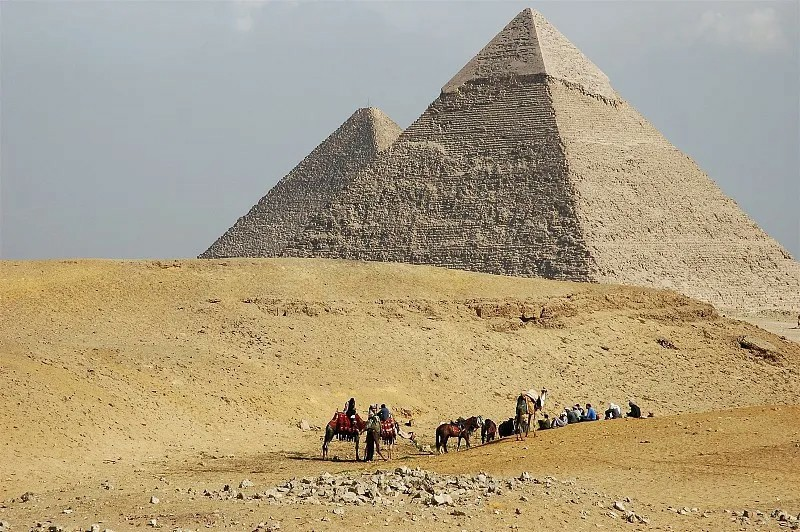Pyramid: (279, 7, 800, 319), (197, 107, 403, 258)
